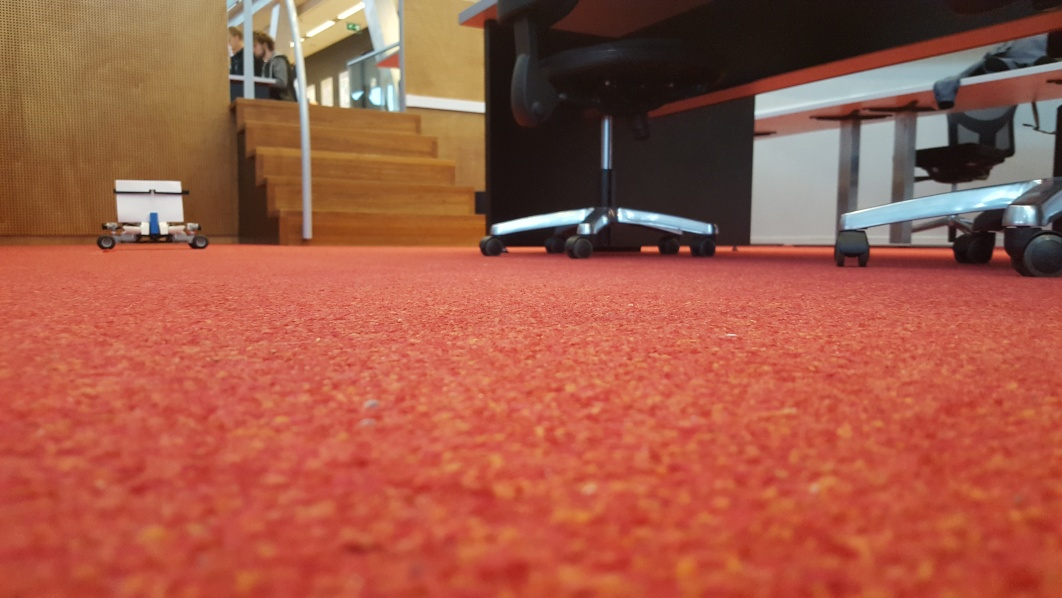car: (98, 178, 209, 251)
